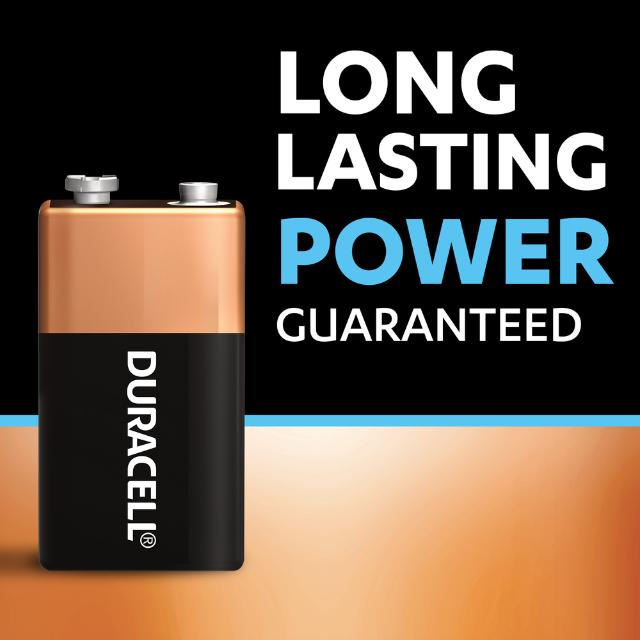Battery: (38, 175, 246, 575)
